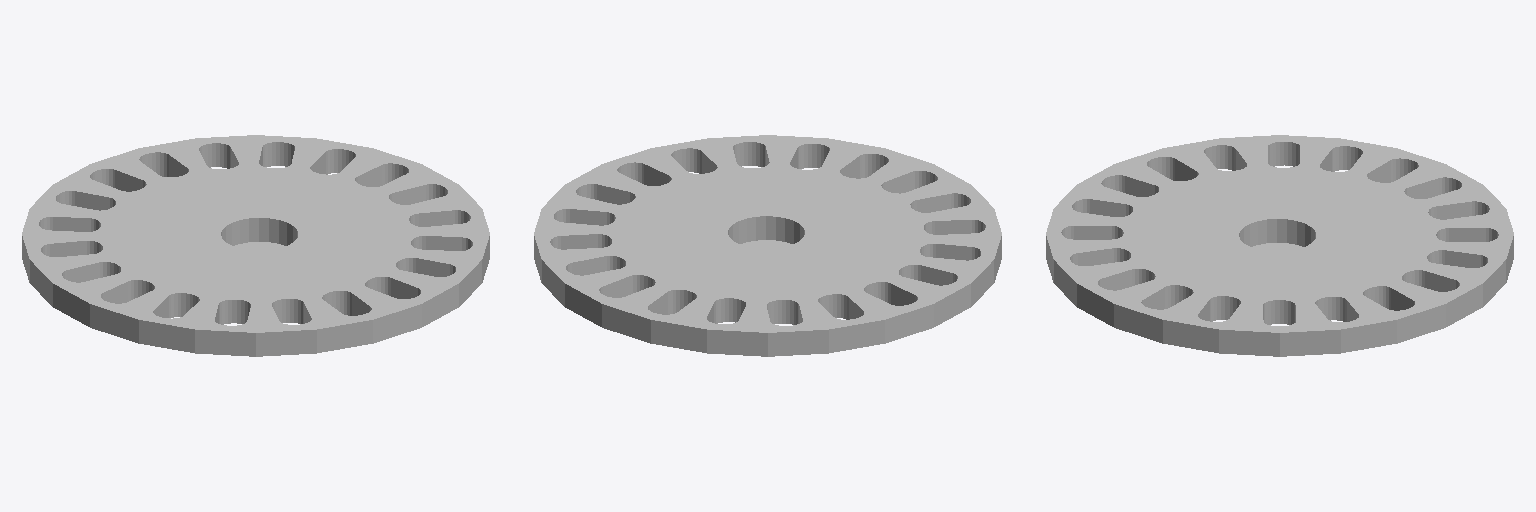
File: disk_tightener_wide_3.obj
3 renders of one model, left to right at view 1: azimuth 30°, elevation 25°; view 2: azimuth 150°, elevation 25°; view 3: azimuth 270°, elevation 25°, orthographic.
Parts seen in each view (by area): view 1: Mesh1 Model; view 2: Mesh1 Model; view 3: Mesh1 Model.
Part boxes in pixels (x1,y1,x2,y2): Mesh1 Model: (22,135,489,356); Mesh1 Model: (534,135,1001,356); Mesh1 Model: (1046,135,1513,356).
Size of the model in its own units: 21.12 by 2.19 by 21.12.